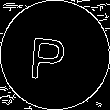P_N: (35, 28, 75, 82)
